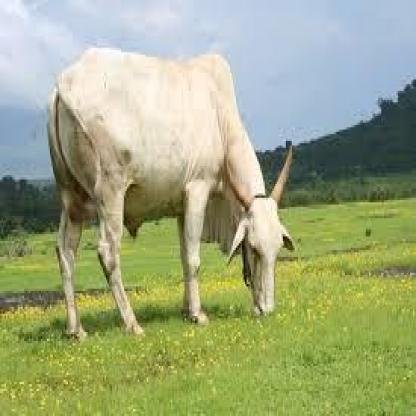cow: (49, 46, 296, 344)
